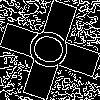O: (25, 25, 81, 76)
